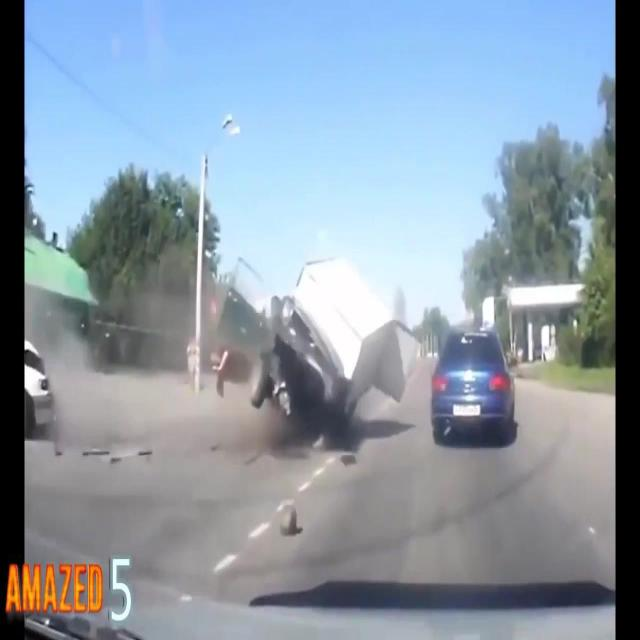accident: (217, 241, 421, 444)
